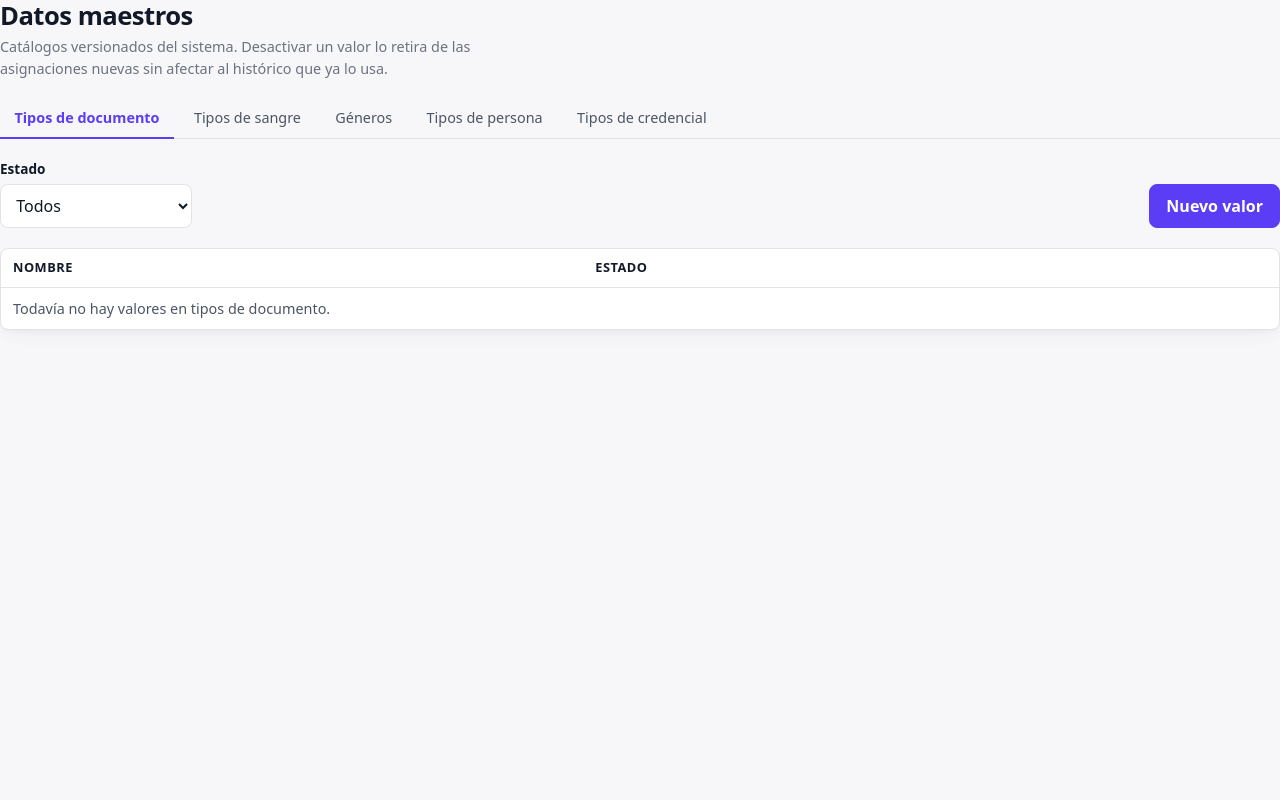
Test: MaestrosPage › explica el conflicto cuando el nombre ya existe
The image size is (1280, 800).
Click the button "Nuevo valor".
click(1215, 206)  # box [1149,184,1279,228]
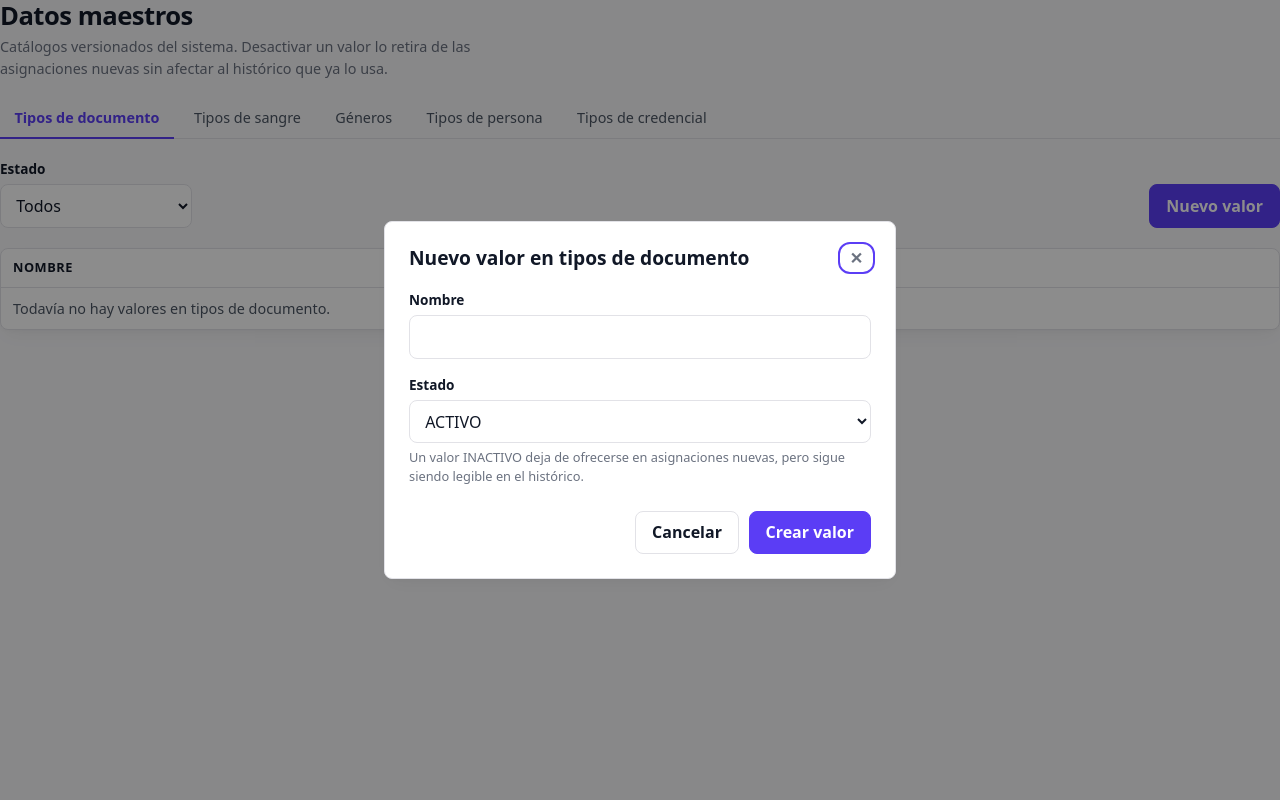
Type "DNI" into the field labelled "Nombre".
click(640, 337); type("DNI")  # box [409,315,871,359]
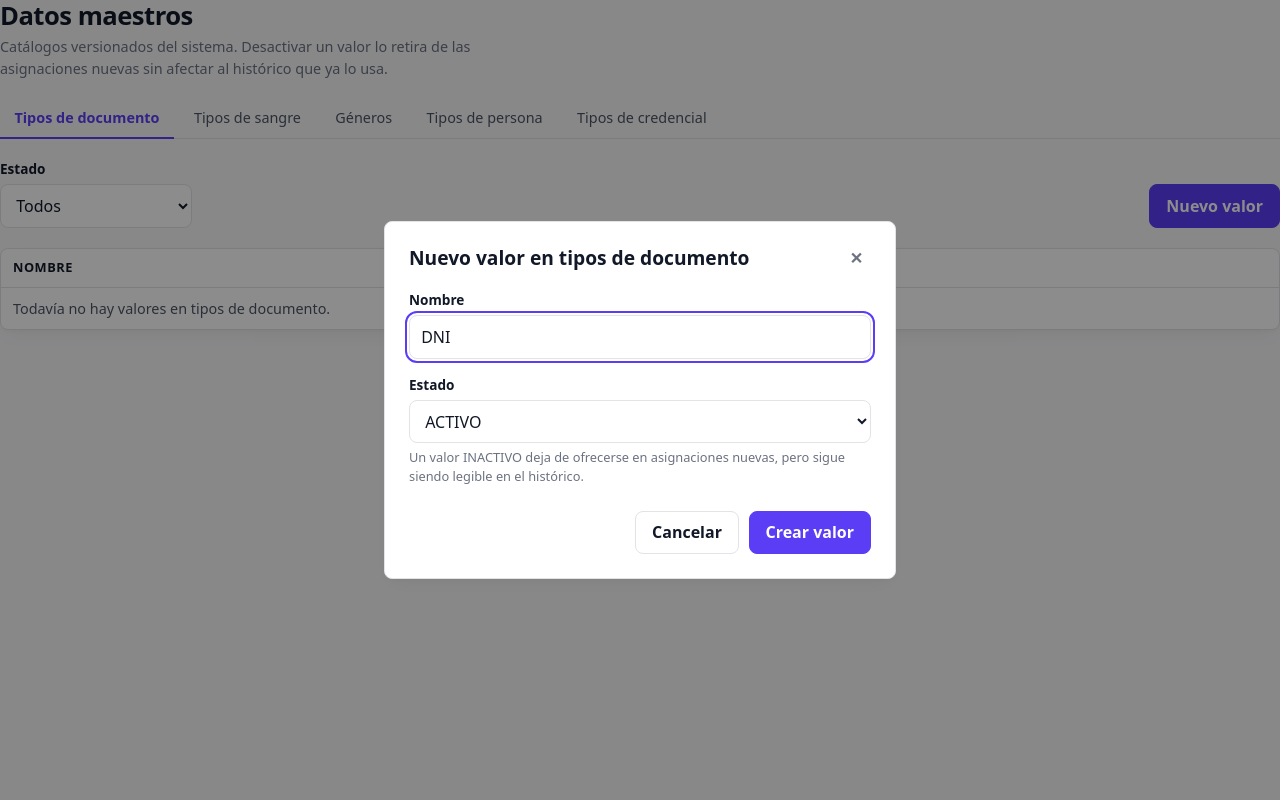
Click the button "Crear valor".
click(810, 532)  # box [748,511,871,554]
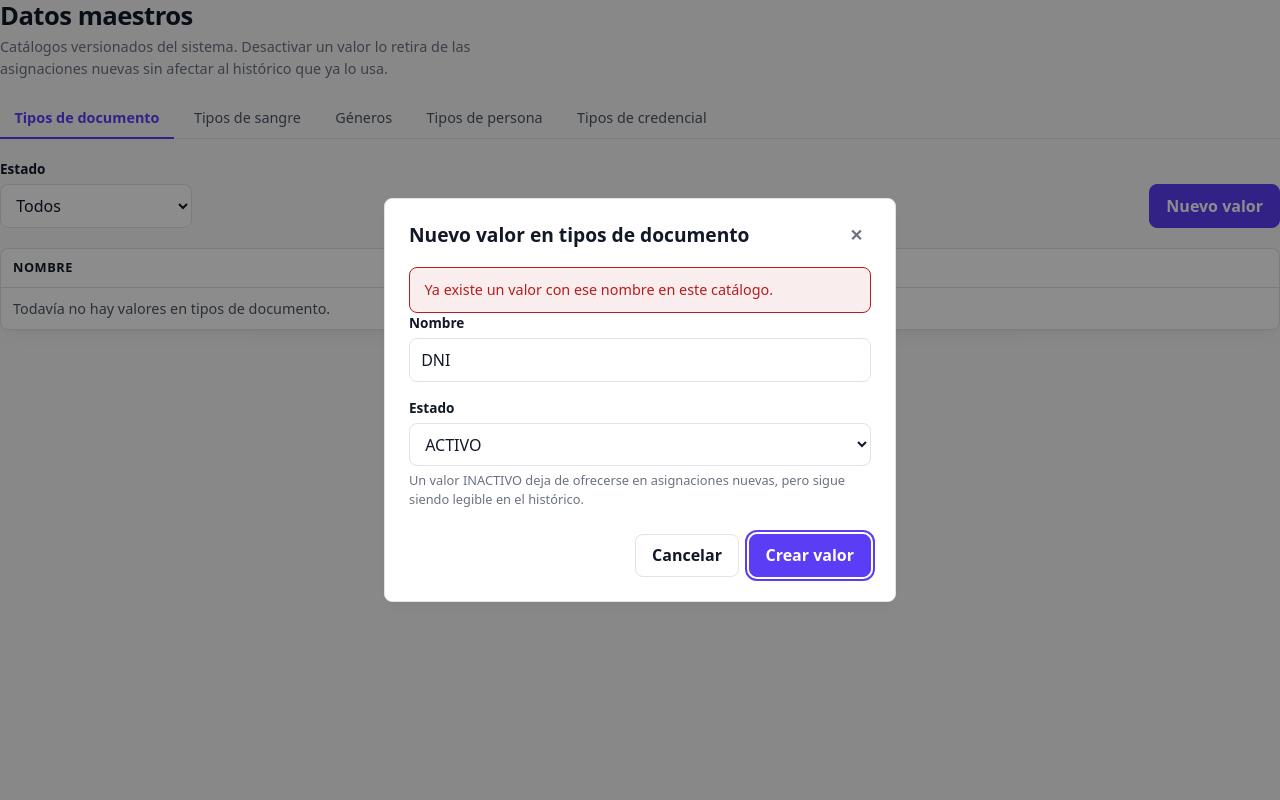
Check: the message reads "Ya existe un valor con ese nombre en este catálogo.", box [424,280,773,299]
